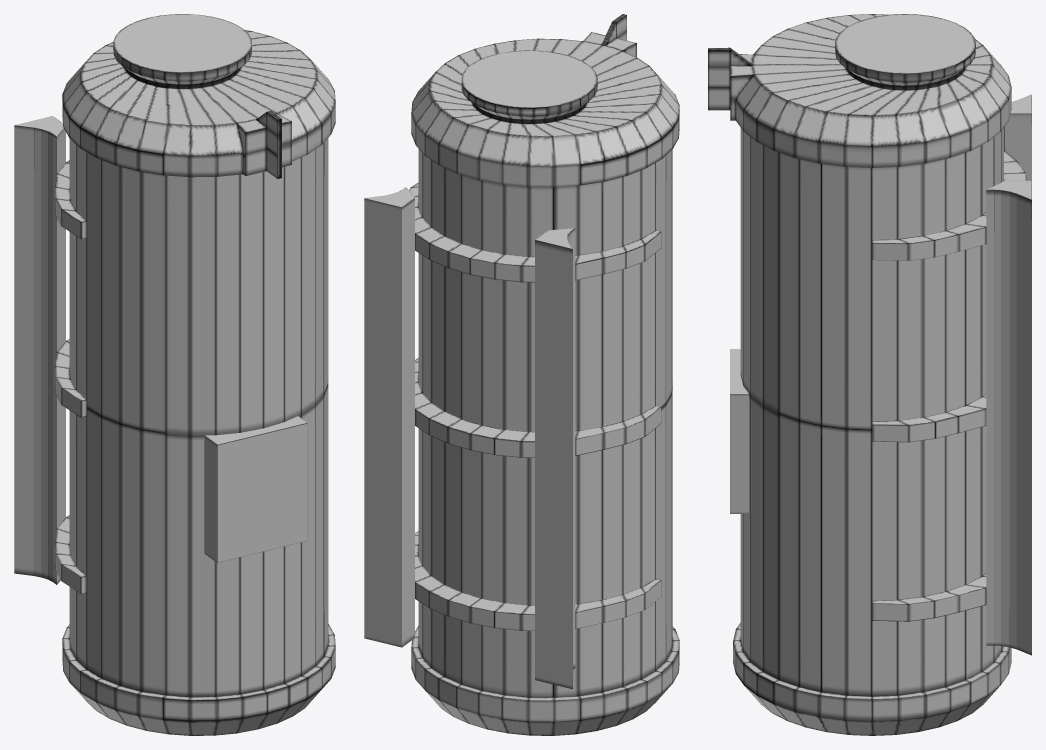
Rendered from Boiler Model.fbx.
The picture shows the model from 3 angles, left to right: view 1: azimuth 30°, elevation 25°; view 2: azimuth 150°, elevation 25°; view 3: azimuth 270°, elevation 25°; orthographic projection. The views are drawn at different scales.
Visible parts, largest first — view 1: Boiler Model, wall mount 1, Panel, semi circle 2, semi circle 1, semi circle 3; view 2: Boiler Model, wall mount 2, wall mount 1, semi circle 1, semi circle 2, semi circle 3; view 3: Boiler Model, wall mount 2, semi circle 1, semi circle 2, semi circle 3, Panel, wall mount 1.
Boxes of the visible parts, x1,y1,x2,y2 form: Boiler Model: (62,14,335,735); wall mount 1: (14,116,65,584); Panel: (204,416,307,562); semi circle 2: (55,339,86,417); semi circle 1: (55,160,86,238); semi circle 3: (55,515,86,593); Boiler Model: (411,14,679,735); wall mount 2: (364,187,414,647); wall mount 1: (535,228,575,689); semi circle 1: (409,182,661,282); semi circle 2: (415,358,661,457); semi circle 3: (415,531,661,630); Boiler Model: (708,14,1011,735); wall mount 2: (986,180,1031,655); semi circle 1: (872,150,1026,260); semi circle 2: (872,394,986,442); semi circle 3: (872,573,986,621); Panel: (730,349,748,513); wall mount 1: (1004,94,1031,180).
Bounding box in the file's own units: 74.27 × 187 × 85.68.
1 material, 1 textured.
